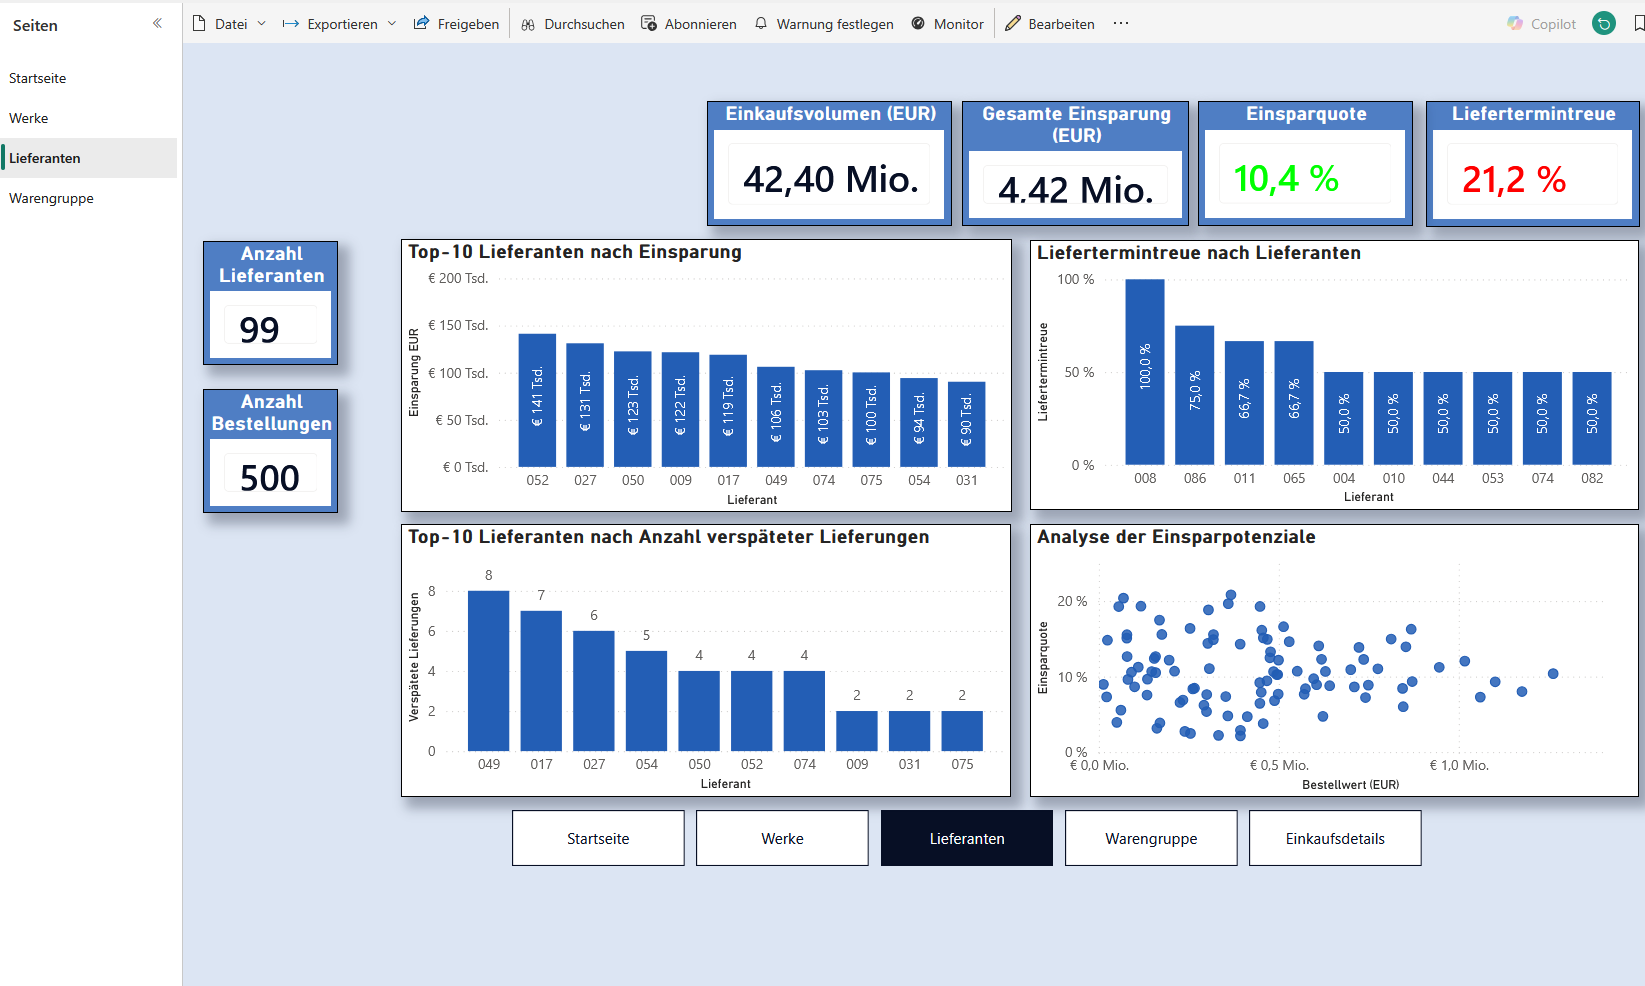

The page's visual inventory and layout, read from the dashboard file:
{"tool":"powerbi","page":{"name":"Lieferanten","canvas":[1280,720],"ordinal":2},"visuals":[{"type":"cardVisual","title":"Liefertermintreue","fields":{"Data":["Einkaufsdaten.Liefertermintreue"]},"box":[1086.4,50.6,186.7,109.9],"z":1000},{"type":"cardVisual","title":"Einkaufsvolumen (EUR)","fields":{"Data":["Einkaufsdaten.Gesamt Einkaufsvolumen EUR"]},"box":[458.2,50.9,213.6,109.1],"z":2000},{"type":"cardVisual","title":"Gesamte Einsparung (EUR)","fields":{"Data":["Einkaufsdaten.Gesamte Einsparung"]},"box":[680.9,50.6,198.4,108.9],"z":3000},{"type":"cardVisual","title":"Einsparquote","fields":{"Data":["Einkaufsdaten.Einsparquote"]},"box":[887.1,50.6,187.7,108.9],"z":4000},{"type":"cardVisual","title":"Anzahl Bestellungen","fields":{"Data":["Einkaufsdaten.Anzahl Bestellungen"]},"box":[17.8,301.9,118,108.4],"z":5000},{"type":"cardVisual","title":"Anzahl Lieferanten","fields":{"Data":["Einkaufsdaten.Anzahl Lieferanten"]},"box":[17.8,172.9,118,108.4],"z":6000},{"type":"columnChart","title":"Top-10 Lieferanten nach Einsparung","fields":{"Category":["Einkaufsdaten.Lieferant"],"Y":["Sum(Einkaufsdaten.Einsparung EUR)"]},"box":[190.7,171.5,533.8,238.8],"z":7000},{"type":"columnChart","title":"Liefertermintreue nach Lieferanten","fields":{"Category":["Einkaufsdaten.Lieferant"],"Y":["Einkaufsdaten.Liefertermintreue"]},"box":[740,172,532,236],"z":8000},{"type":"columnChart","title":"Top-10 Lieferanten nach Anzahl verspäteter Lieferungen","fields":{"Category":["Einkaufsdaten.Lieferant"],"Y":["Einkaufsdaten.Verspätete Lieferungen"]},"box":[190.5,420.2,533.3,238.1],"z":9000},{"type":"scatterChart","title":"Analyse der Einsparpotenziale","fields":{"Category":["Einkaufsdaten.Lieferant"],"X":["Sum(Einkaufsdaten.Bestellwert Euro)"],"Y":["Einkaufsdaten.Einsparquote"]},"box":[740,420,532.2,238.9],"z":10000},{"type":"pageNavigator","box":[287.4,670.2,799.9,49.8],"z":11000}]}

Visuals, with their boxes on the page's 1280x720 design canvas (x1, y1, x2, y2). These are canvas units, not pixel positions in the 1645x986 screenshot, which may show the page scaled, cropped or inside an application window:
"Liefertermintreue" cardVisual: BBox(1086, 51, 1273, 160)
"Einkaufsvolumen (EUR)" cardVisual: BBox(458, 51, 672, 160)
"Gesamte Einsparung (EUR)" cardVisual: BBox(681, 51, 879, 160)
"Einsparquote" cardVisual: BBox(887, 51, 1075, 160)
"Anzahl Bestellungen" cardVisual: BBox(18, 302, 136, 410)
"Anzahl Lieferanten" cardVisual: BBox(18, 173, 136, 281)
"Top-10 Lieferanten nach Einsparung" columnChart: BBox(191, 172, 724, 410)
"Liefertermintreue nach Lieferanten" columnChart: BBox(740, 172, 1272, 408)
"Top-10 Lieferanten nach Anzahl verspäteter Lieferungen" columnChart: BBox(190, 420, 724, 658)
"Analyse der Einsparpotenziale" scatterChart: BBox(740, 420, 1272, 659)
pageNavigator: BBox(287, 670, 1087, 720)
